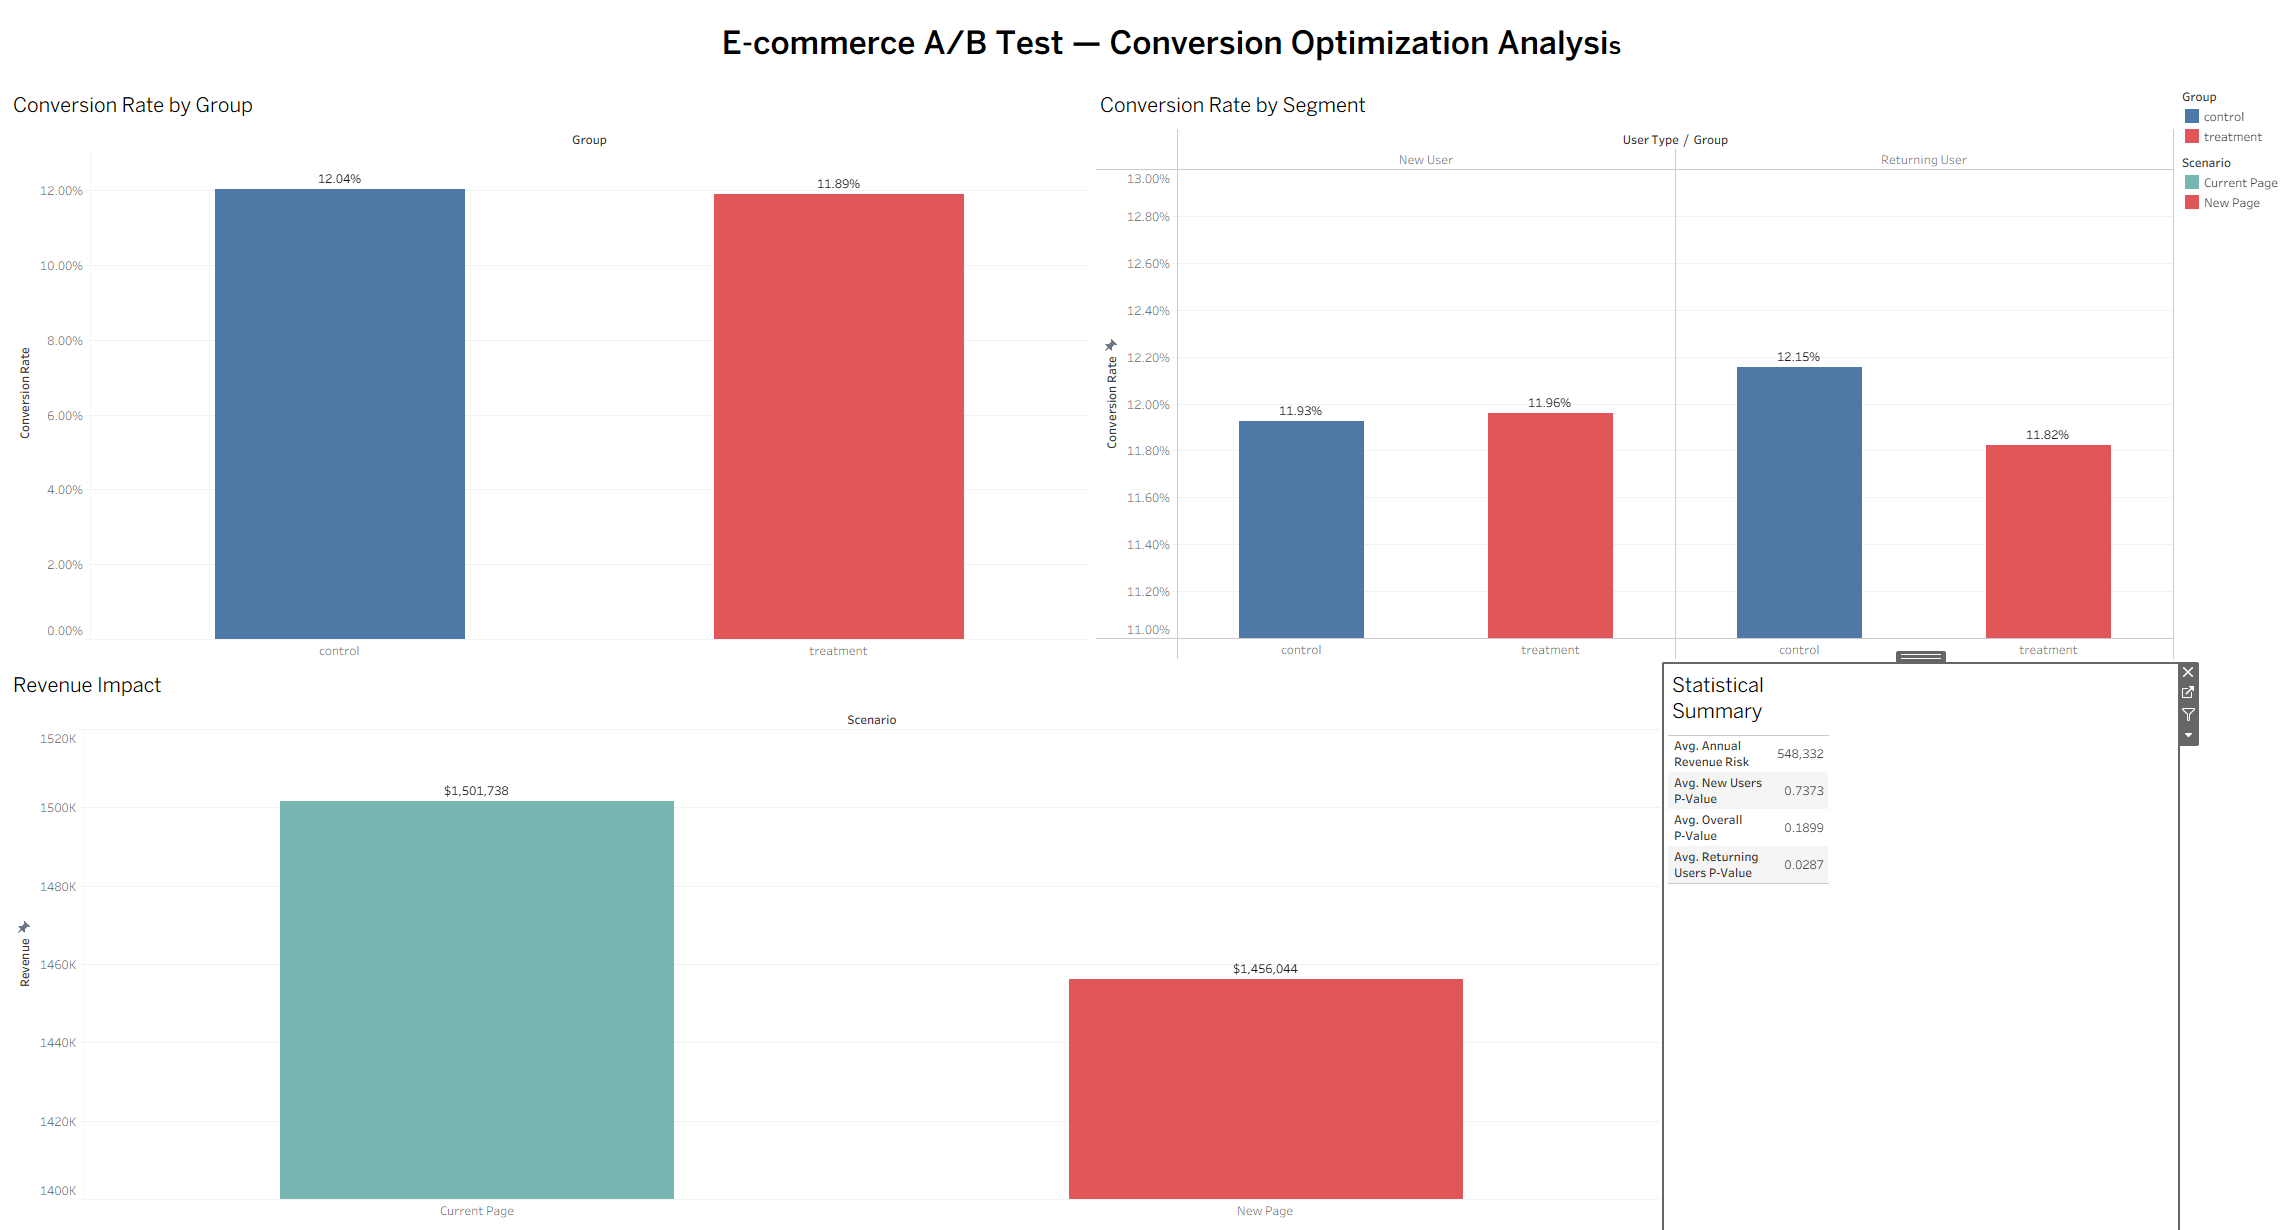

What the dashboard file says about the page in this screenshot:
{"tool":"tableau","page":{"name":"E-commerce A/B Test — Executive Dashboard","canvas":[2349,1256],"ordinal":0},"visuals":[{"type":"text","box":[8,8,2333,81]},{"type":"worksheet","title":"Conversion Rate by Group","mark":"Automatic","rows":["Calculation_1888749175431168"],"cols":["group"],"box":[8,89,1086.5,579.5]},{"type":"worksheet","title":"Conversion Rate by Segment","mark":"Automatic","rows":["Calculation_1888749175431168"],"cols":["Calculation_2815362931953664","group"],"box":[1094.5,89,1086.5,579.5]},{"type":"legend","title":"Conversion Rate by Group","param":"[federated.17i337s17so26x17c4nyb0u5poyi].[none:group:nk]","box":[2181,89,160,66]},{"type":"legend","title":"Revenue Impact","param":"[federated.1fjv4xo04id8ex124j4s41f4qldx].[none:Scenario:nk]","box":[2181,155,160,66]},{"type":"worksheet","title":"Revenue Impact","mark":"Automatic","rows":["Revenue"],"cols":["Scenario"],"box":[8,668.5,1659,579.5]},{"type":"worksheet","title":"Statistical Summary","mark":"Automatic","box":[1667,668.5,514,579.5]}]}

Visuals, with their boxes in screenshot pixels (x1, y1, x2, y2), scaled from the page's 2349x1256 canvas onto the 2292x1230 screenshot:
text: [8,8,2284,87]
"Conversion Rate by Group" worksheet: [8,87,1068,655]
"Conversion Rate by Segment" worksheet: [1068,87,2128,655]
"Conversion Rate by Group" legend: [2128,87,2284,152]
"Revenue Impact" legend: [2128,152,2284,216]
"Revenue Impact" worksheet: [8,655,1627,1222]
"Statistical Summary" worksheet: [1627,655,2128,1222]
